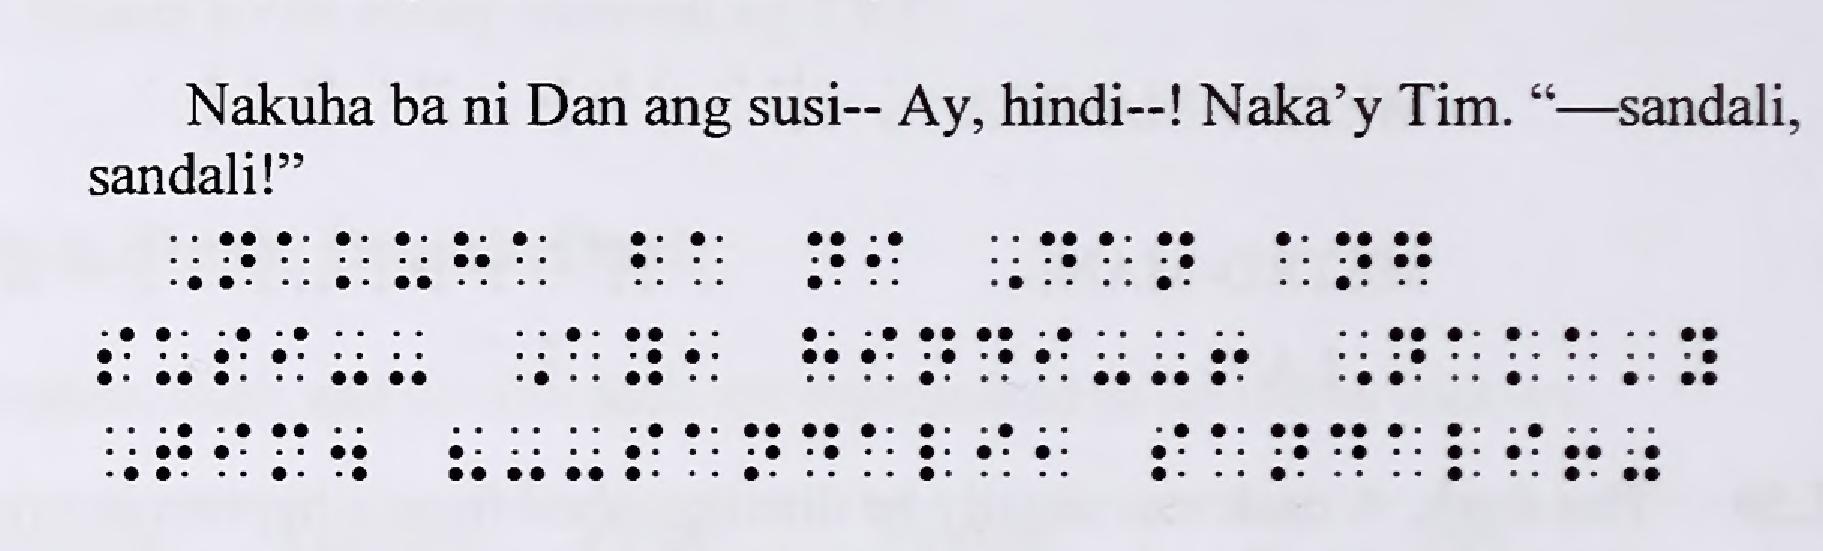capital_sign: (1338, 330, 1373, 387), (170, 235, 203, 291), (516, 329, 549, 386), (106, 425, 138, 482), (991, 236, 1023, 289)
letter_A: (565, 327, 600, 382)
letter_D: (1039, 231, 1077, 286)
letter_N: (1389, 325, 1427, 386), (219, 231, 256, 289)
letter_T: (157, 423, 192, 480)
letter_a: (1099, 230, 1134, 287), (1446, 325, 1481, 382), (1564, 325, 1597, 384), (689, 230, 724, 286), (513, 230, 546, 287), (685, 422, 719, 478), (860, 422, 894, 478), (1210, 423, 1244, 478), (1388, 423, 1422, 478), (1277, 230, 1309, 286), (277, 230, 309, 285)
letter_b: (629, 231, 664, 286)
letter_d: (801, 423, 841, 478), (977, 327, 1013, 384), (1331, 422, 1367, 477)
letter_g: (1393, 229, 1432, 288)
letter_h: (802, 325, 839, 382), (453, 230, 489, 286)
letter_i: (975, 422, 1015, 478), (860, 327, 898, 384), (1035, 327, 1072, 384), (1506, 422, 1544, 477), (214, 422, 251, 478), (272, 327, 308, 382), (867, 231, 902, 286)
letter_k: (1506, 325, 1540, 386), (335, 230, 369, 289)
letter_l: (1447, 423, 1480, 482), (920, 423, 951, 481)
letter_m: (271, 423, 309, 481)
letter_n: (807, 230, 845, 291), (1156, 230, 1194, 291), (1336, 230, 1373, 291), (744, 422, 781, 481), (1271, 423, 1308, 482), (918, 327, 956, 385)
letter_s: (625, 423, 665, 481), (96, 327, 135, 386), (1151, 423, 1189, 482), (215, 327, 251, 386)
letter_u: (395, 230, 432, 291), (155, 327, 193, 385)
letter_y: (625, 327, 664, 386), (1681, 325, 1717, 386)
